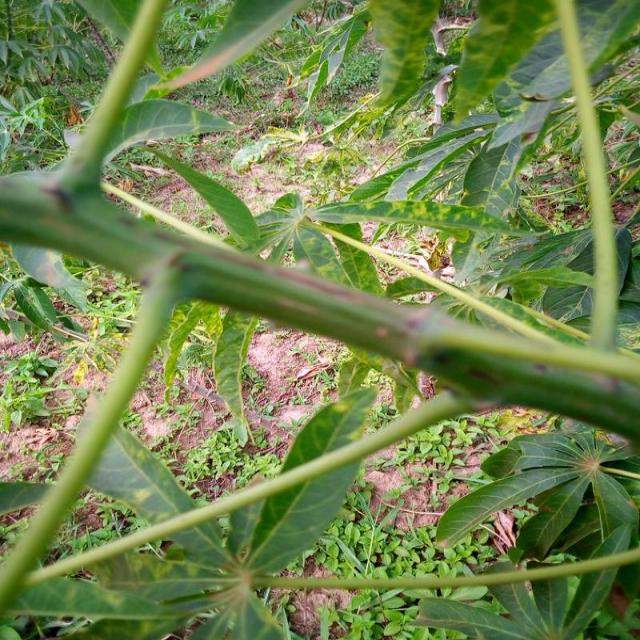cassava leaf: (0, 0, 638, 638), (228, 384, 378, 578)
